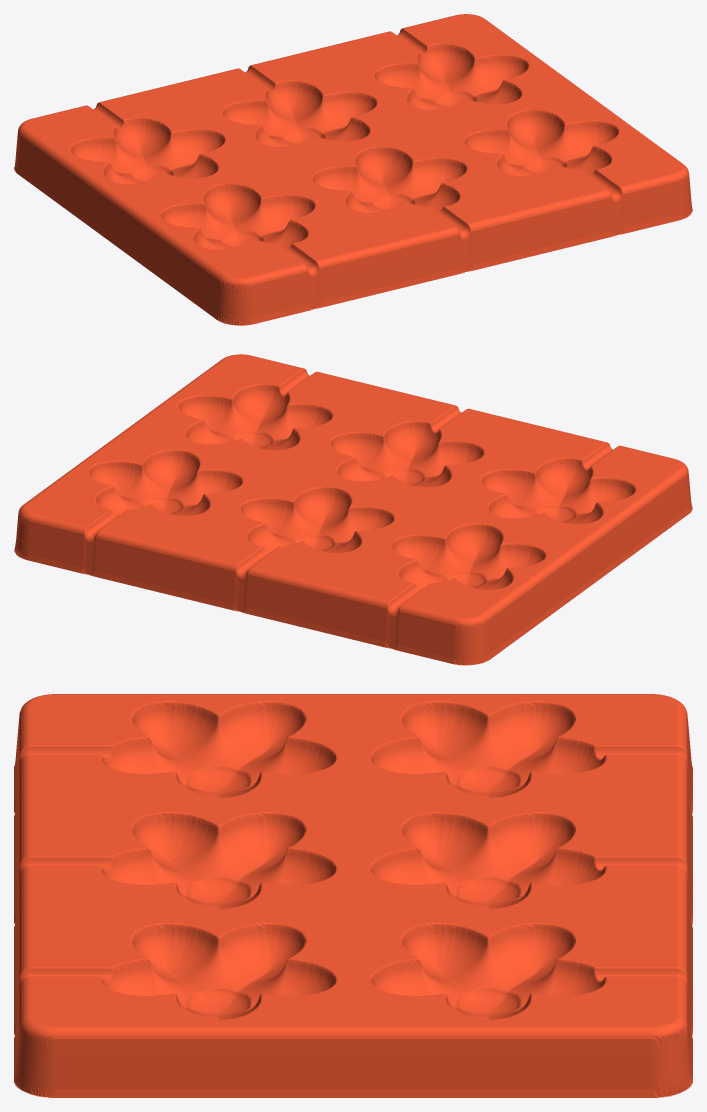
File: mold.glb
The picture shows the model from 3 angles, top to bottom: view 1: azimuth 30°, elevation 25°; view 2: azimuth 150°, elevation 25°; view 3: azimuth 270°, elevation 25°; orthographic projection. The views are drawn at different scales.
Visible parts, largest first — view 1: geometry_0; view 2: geometry_0; view 3: geometry_0.
Part boxes in pixels (box(x1,y1,x2,y2)): geometry_0: box(14, 14, 692, 325); geometry_0: box(14, 354, 692, 665); geometry_0: box(14, 694, 692, 1097).
Bounding box in the file's own units: 0.1778 × 0.0155 × 0.1477.
